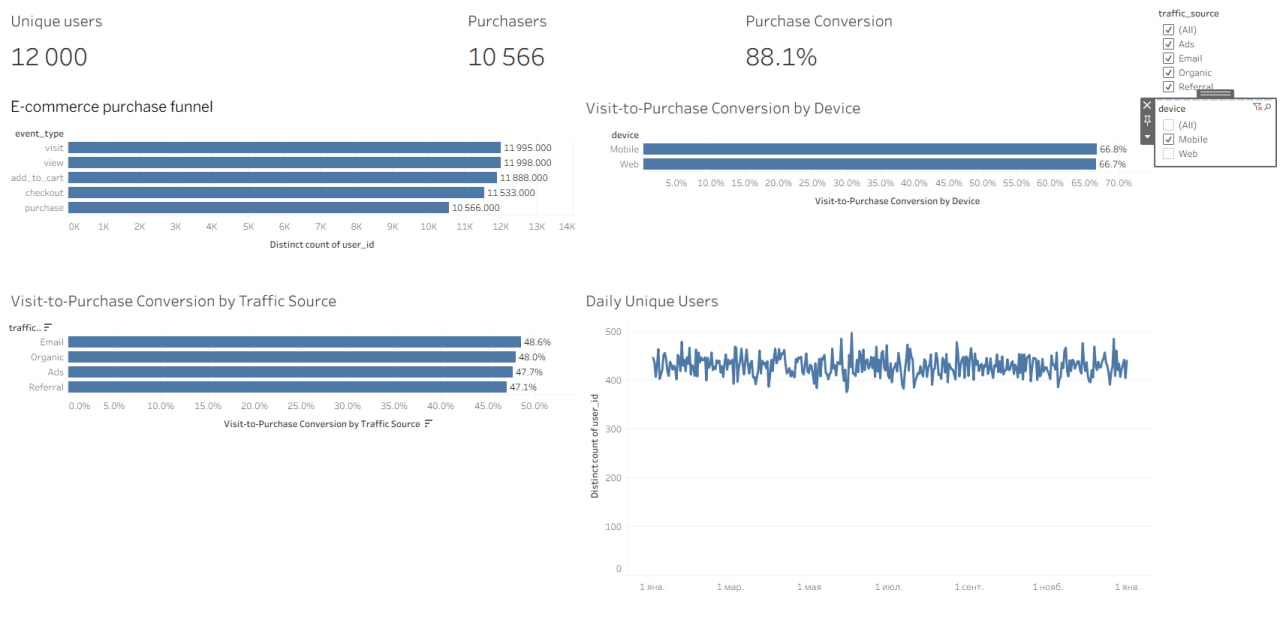

Layout of this report page (visuals, bound fields, positions):
{"tool":"tableau","page":{"name":"E-commerce Product Funnel & Conversion Dashboard","canvas":[1000,1000],"units":"permille","ordinal":0},"visuals":[{"type":"worksheet","title":"Unique users","mark":"Automatic","box":[5.8,8.8,303.4,128.3]},{"type":"worksheet","title":"Purchasers","mark":"Automatic","box":[309.2,8.8,266.4,128.3]},{"type":"worksheet","title":"Purchase Conversion","mark":"Automatic","box":[575.6,8.8,303.5,128.3]},{"type":"filter","title":"Daily Unique Users","param":"[federated.1beezbx1he3ki70zsfysd0rpqaxv].[none:traffic_source:nk]","box":[879.1,8.8,115.2,140.5]},{"type":"worksheet","title":"Funnel","mark":"Bar","rows":["event_type"],"cols":["user_id"],"box":[5.8,137.2,436.6,362.8]},{"type":"worksheet","title":"Visit-to-Purchase Conversion by Device","mark":"Automatic","rows":["device"],"cols":["Calculation_0816430100611075"],"box":[442.4,137.2,436.7,362.8]},{"type":"filter","title":"Daily Unique Users","param":"[federated.1beezbx1he3ki70zsfysd0rpqaxv].[none:device:nk]","box":[879.1,149.3,115.2,98.5]},{"type":"worksheet","title":"Visit-to-Purchase Conversion by Traffic Source","mark":"Automatic","rows":["traffic_source"],"cols":["Calculation_0816430102528004"],"box":[5.8,500,436.6,491.2]},{"type":"worksheet","title":"Daily Unique Users","mark":"Automatic","rows":["user_id"],"cols":["event_date"],"box":[442.4,500,436.7,491.2]}]}

Visuals, with their boxes on the dashboard's canvas, which has no fixed pixel size, in thousandths of its width and height (x1, y1, x2, y2). These are canvas units, not pixel positions in the 1280x626 screenshot, which may show the page scaled, cropped or inside an application window:
"Unique users" worksheet: pyautogui.locateOnScreen(6, 9, 309, 137)
"Purchasers" worksheet: pyautogui.locateOnScreen(309, 9, 576, 137)
"Purchase Conversion" worksheet: pyautogui.locateOnScreen(576, 9, 879, 137)
"Daily Unique Users" filter: pyautogui.locateOnScreen(879, 9, 994, 149)
"Funnel" worksheet (Bar marks): pyautogui.locateOnScreen(6, 137, 442, 500)
"Visit-to-Purchase Conversion by Device" worksheet: pyautogui.locateOnScreen(442, 137, 879, 500)
"Daily Unique Users" filter: pyautogui.locateOnScreen(879, 149, 994, 248)
"Visit-to-Purchase Conversion by Traffic Source" worksheet: pyautogui.locateOnScreen(6, 500, 442, 991)
"Daily Unique Users" worksheet: pyautogui.locateOnScreen(442, 500, 879, 991)
